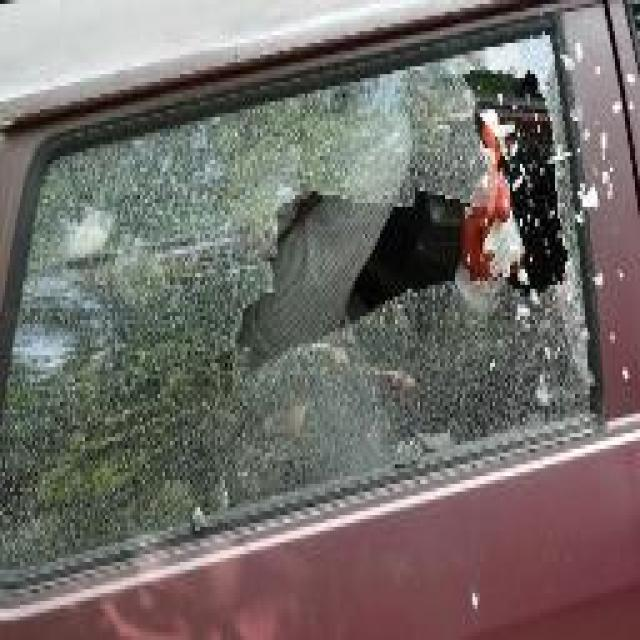Door: (32, 152, 592, 460)
